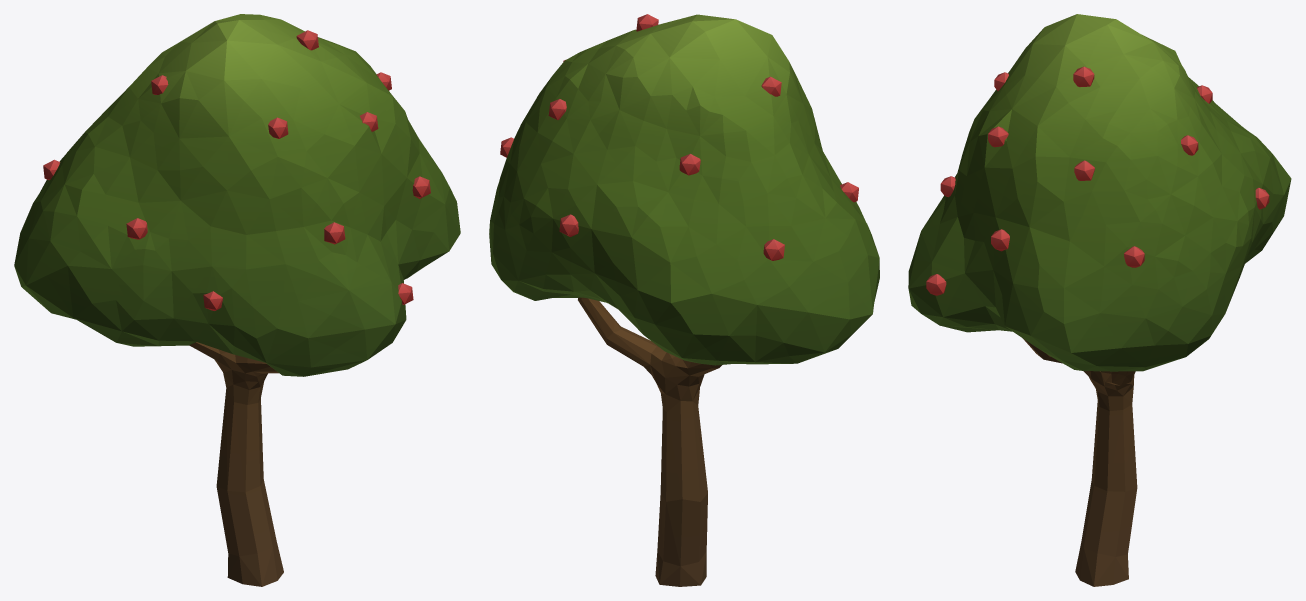
Rendered from Tree_08.fbx.
3 views of the same model, side by side, from view 1: azimuth 30°, elevation 25°; view 2: azimuth 150°, elevation 25°; view 3: azimuth 270°, elevation 25° (orthographic). The views are drawn at different scales.
Visible parts, largest first — view 1: Tree_08; view 2: Tree_08; view 3: Tree_08.
Part boxes in pixels (x1=…): Tree_08: x1=14, y1=14, x2=460, y2=586; Tree_08: x1=489, y1=14, x2=879, y2=586; Tree_08: x1=908, y1=14, x2=1291, y2=586.
Size of the model in its own units: 3.71 by 5.02 by 3.2.
